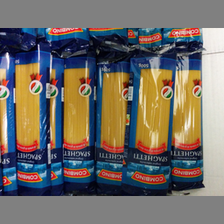pasta: (122, 56, 178, 195), (14, 47, 50, 192), (167, 53, 204, 189), (61, 55, 95, 190), (95, 60, 129, 190)
